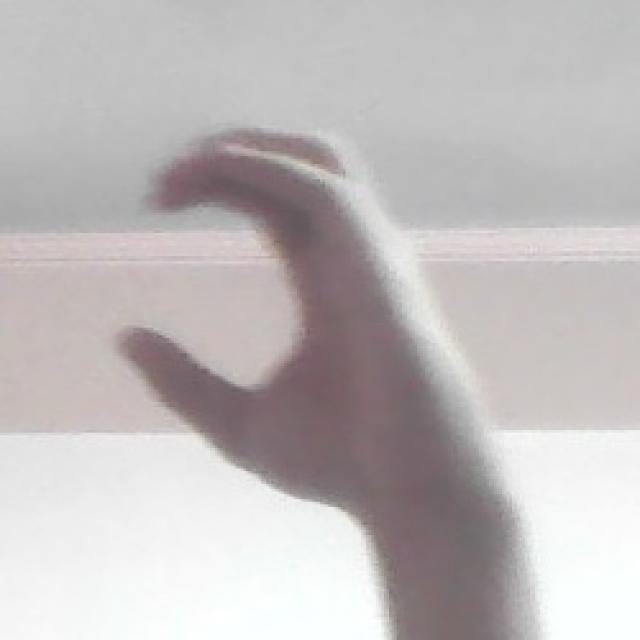Alphabet-C: (106, 116, 512, 540)
